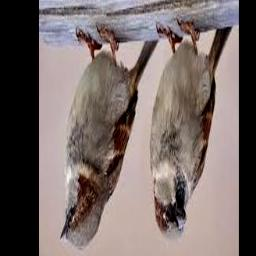Sparrow: (60, 26, 160, 249), (149, 20, 233, 243)
